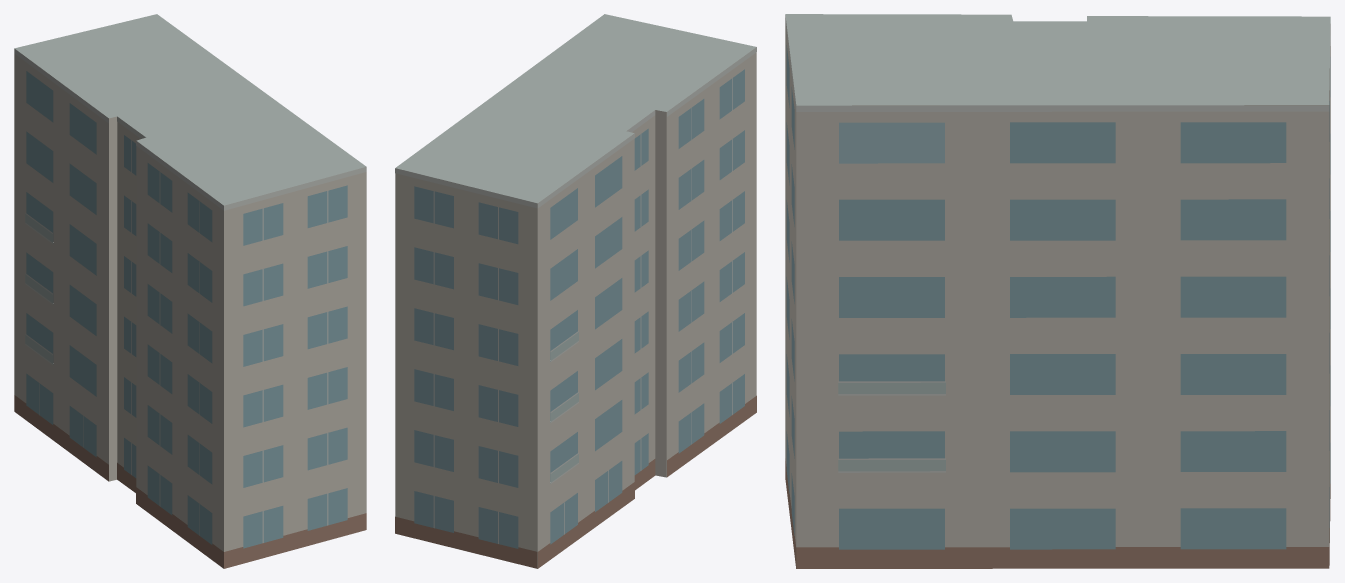
The model's file is survey-upis-32732571.glb.
3 views of the same model, side by side, from view 1: azimuth 30°, elevation 25°; view 2: azimuth 150°, elevation 25°; view 3: azimuth 270°, elevation 25° (orthographic). The views are drawn at different scales.
Parts seen in each view (by area): view 1: survey-upis-32732571.tmp; view 2: survey-upis-32732571.tmp; view 3: survey-upis-32732571.tmp.
Boxes of the visible parts, bbox=[...] form: survey-upis-32732571.tmp: bbox=[14, 14, 366, 568]; survey-upis-32732571.tmp: bbox=[395, 14, 756, 568]; survey-upis-32732571.tmp: bbox=[785, 14, 1330, 568].
Size of the model in its own units: 7.37 by 17.3 by 18.46.
